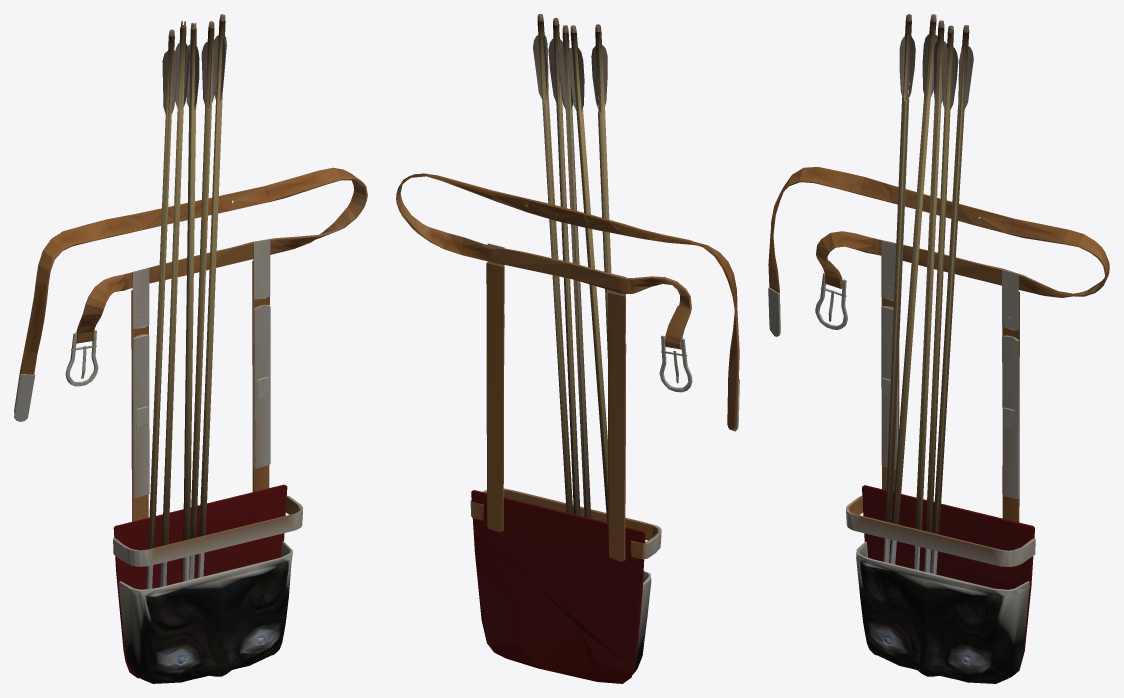
Rendered from gilt_bronze_quiver_with_jewel_beetles_ho_6236b722.glb.
The picture shows the model from 3 angles, left to right: view 1: azimuth 30°, elevation 25°; view 2: azimuth 150°, elevation 25°; view 3: azimuth 330°, elevation 25°; orthographic projection.
Visible parts, largest first — view 1: SM_24WA0014_low_SM_24WA0014_low_0; view 2: SM_24WA0014_low_SM_24WA0014_low_0; view 3: SM_24WA0014_low_SM_24WA0014_low_0.
Part boxes in pixels (<box>): SM_24WA0014_low_SM_24WA0014_low_0: <box>14,14,367,683</box>; SM_24WA0014_low_SM_24WA0014_low_0: <box>396,14,739,683</box>; SM_24WA0014_low_SM_24WA0014_low_0: <box>768,14,1109,683</box>.
Size of the model in its own units: 0.2406 by 0.4314 by 0.0361.
